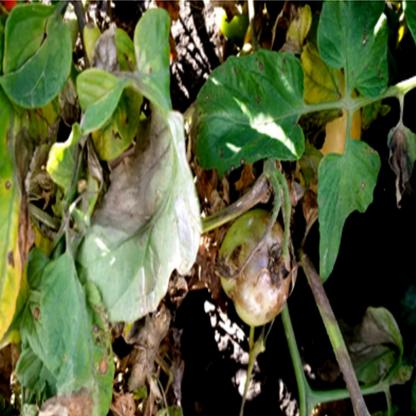Potato leaf late blight: (73, 105, 201, 318), (193, 42, 308, 168), (87, 22, 179, 115)
